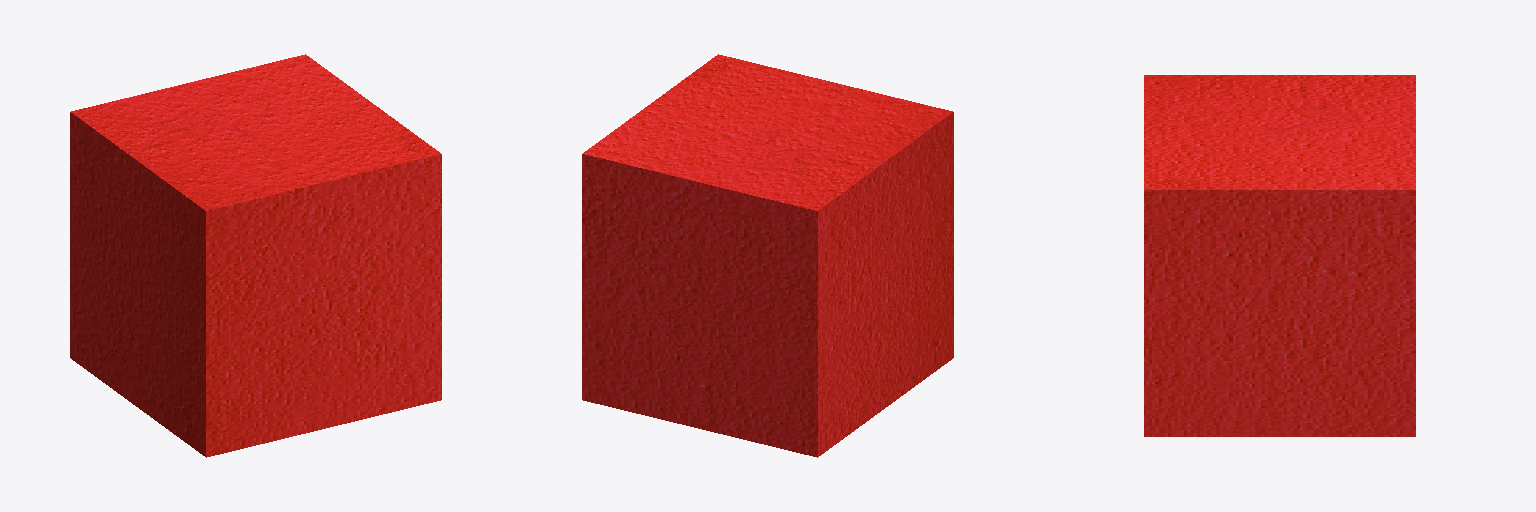
The picture shows the model from 3 angles: view 1: azimuth 30°, elevation 25°; view 2: azimuth 150°, elevation 25°; view 3: azimuth 270°, elevation 25°; orthographic projection.
Parts seen in each view (by area): view 1: Cubo; view 2: Cubo; view 3: Cubo.
Part boxes in pixels (x1,y1,x2,y2): Cubo: (70,54,441,457); Cubo: (582,54,953,457); Cubo: (1144,75,1415,436).
Size of the model in its own units: 1 by 1 by 1.
1 materials, 1 textured.